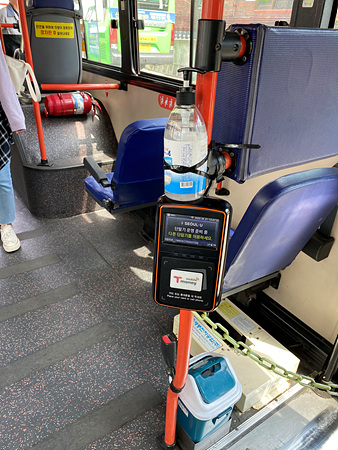terminal: (156, 193, 228, 312)
